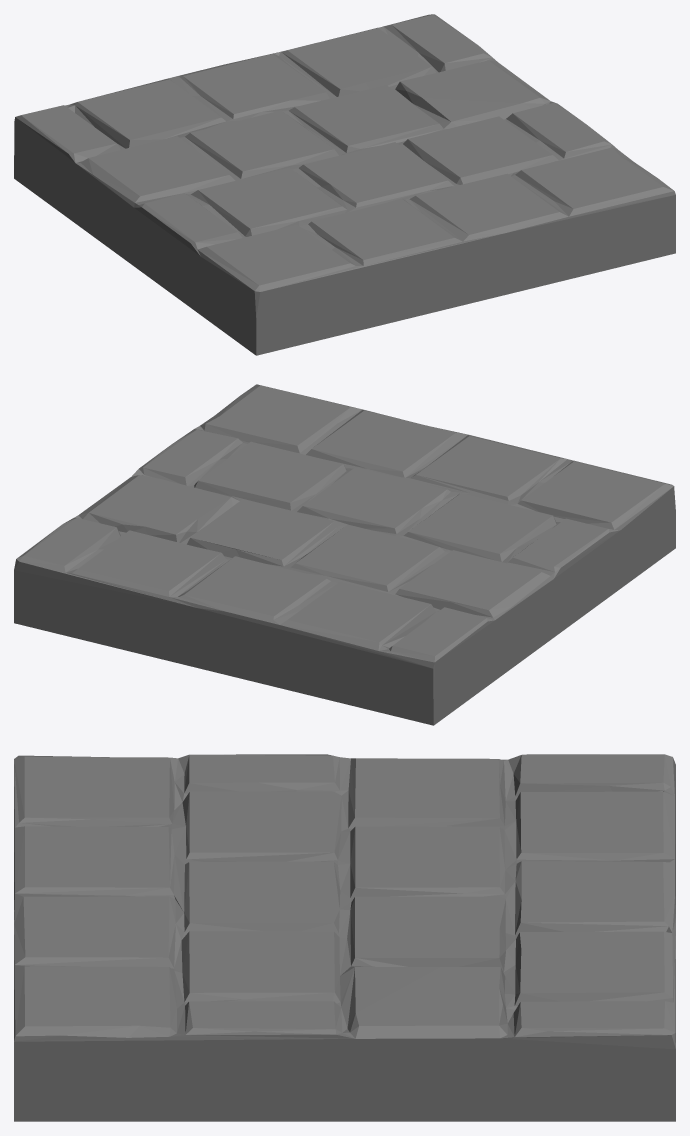
File: modular_floor.FBX
3 renders of one model, top to bottom at view 1: azimuth 30°, elevation 25°; view 2: azimuth 150°, elevation 25°; view 3: azimuth 270°, elevation 25°, orthographic. The views are drawn at different scales.
Parts seen in each view (by area): view 1: modular_floor; view 2: modular_floor; view 3: modular_floor.
Part boxes in pixels (box(x1,y1,x2,y2)): modular_floor: box(14, 14, 675, 355); modular_floor: box(14, 384, 675, 725); modular_floor: box(14, 754, 675, 1121).
Size of the model in its own units: 3 by 0.4499 by 3.
